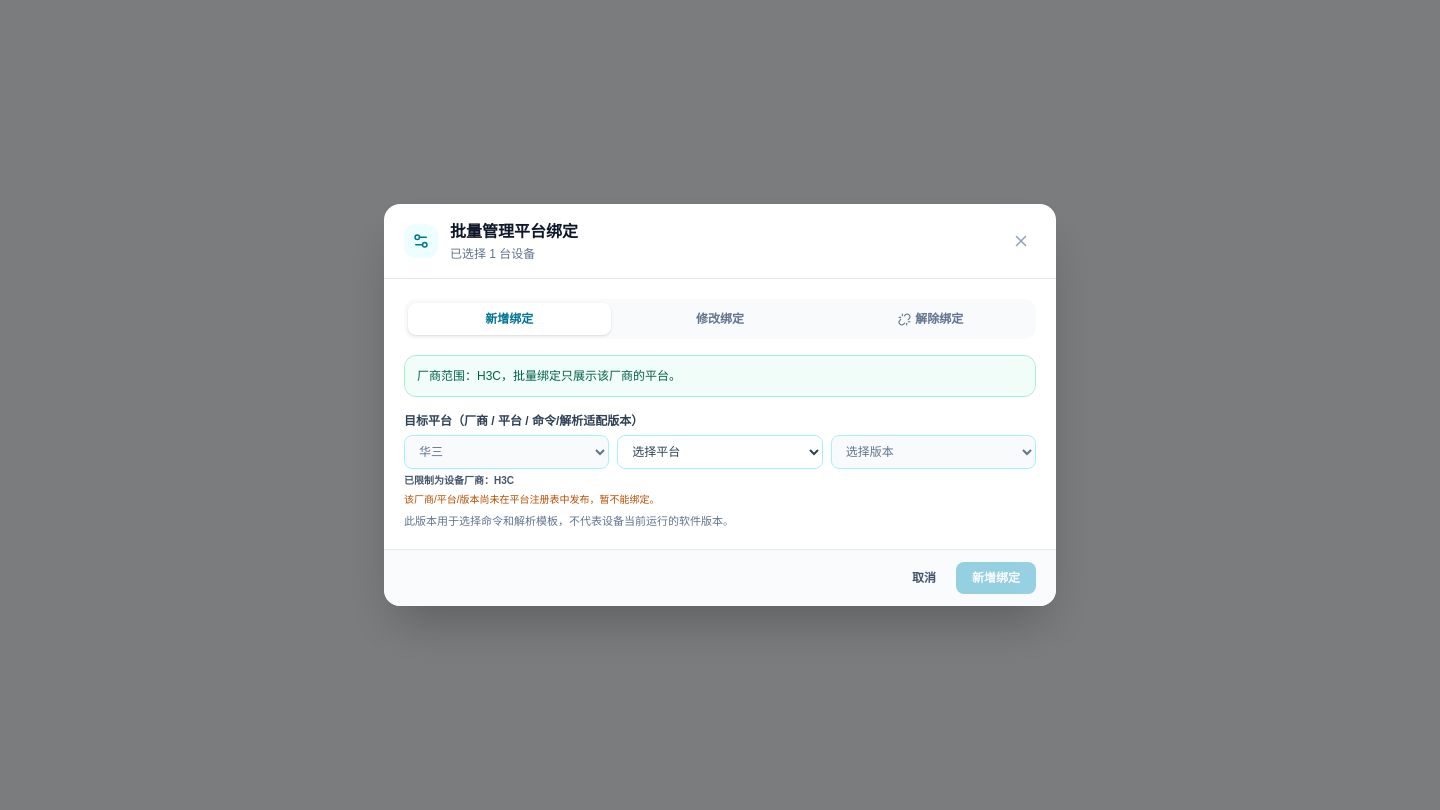
BatchPlatformBindingModal version guard › maps a lock conflict to refresh guidance without retrying
Select "华三" in the dropdown named "平台厂商". click: {"x": 507, "y": 452}
box: [404,435,609,469]
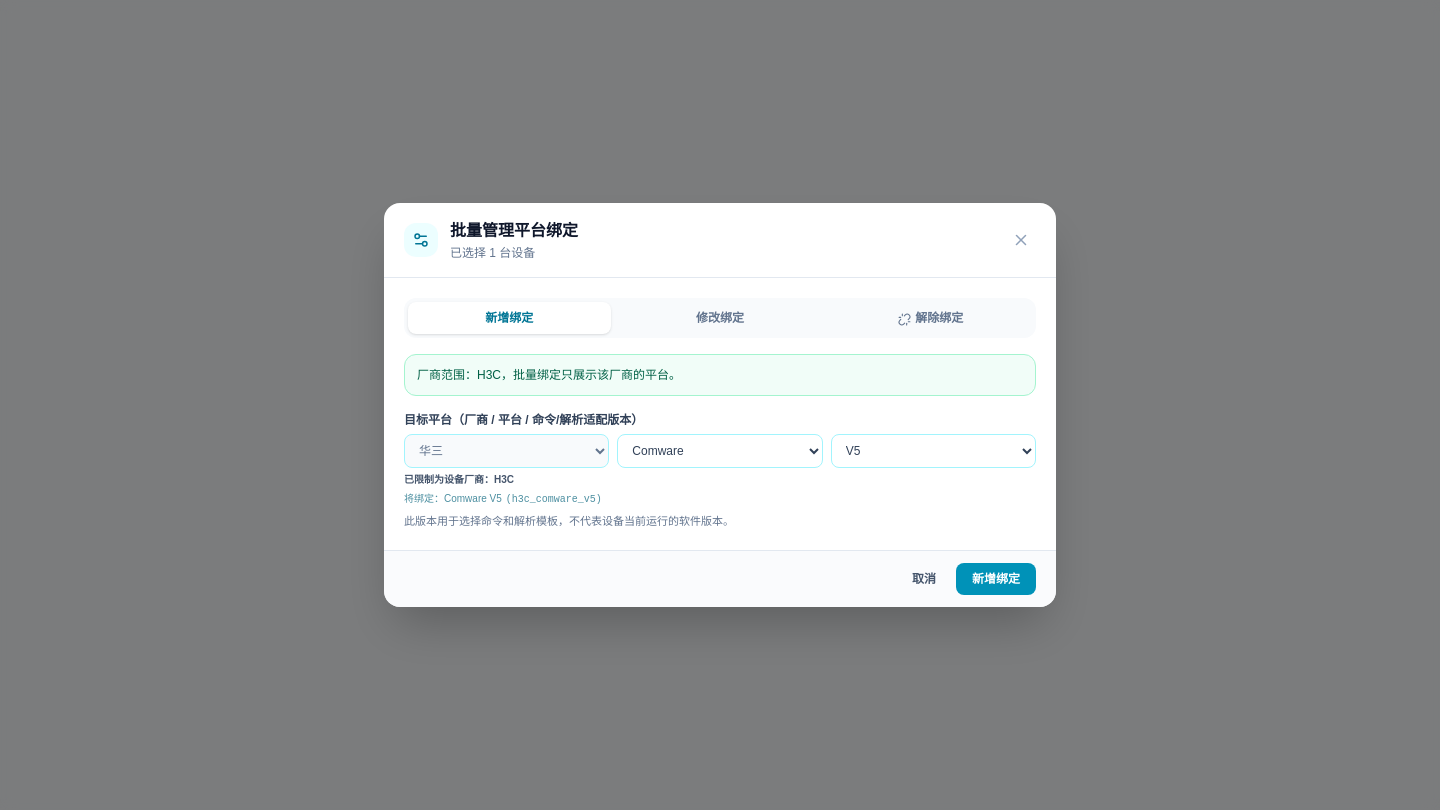
Select "Comware" in the dropdown named "平台类型". click: {"x": 720, "y": 451}
box: [617,434,823,468]
Select "V5" in the dropdown named "平台版本". click: {"x": 933, "y": 451}
box: [831,434,1036,468]
Check: the 2nd button "新增绑定" is enabled
Click the 2nd button "新增绑定". click: {"x": 996, "y": 579}
box: [956,563,1036,595]
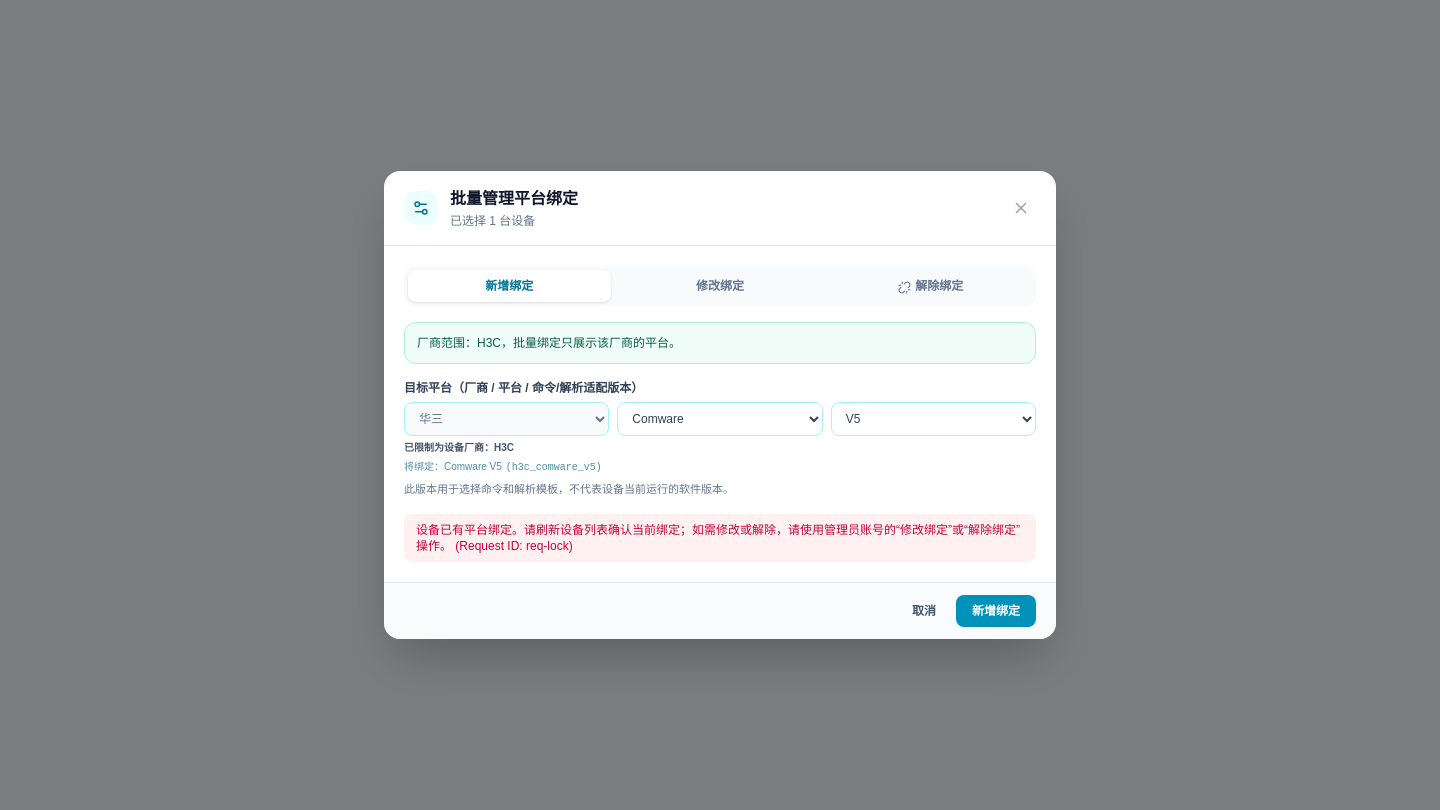
Check: the message shows "请刷新设备列表", box [416,523,1020,553]
